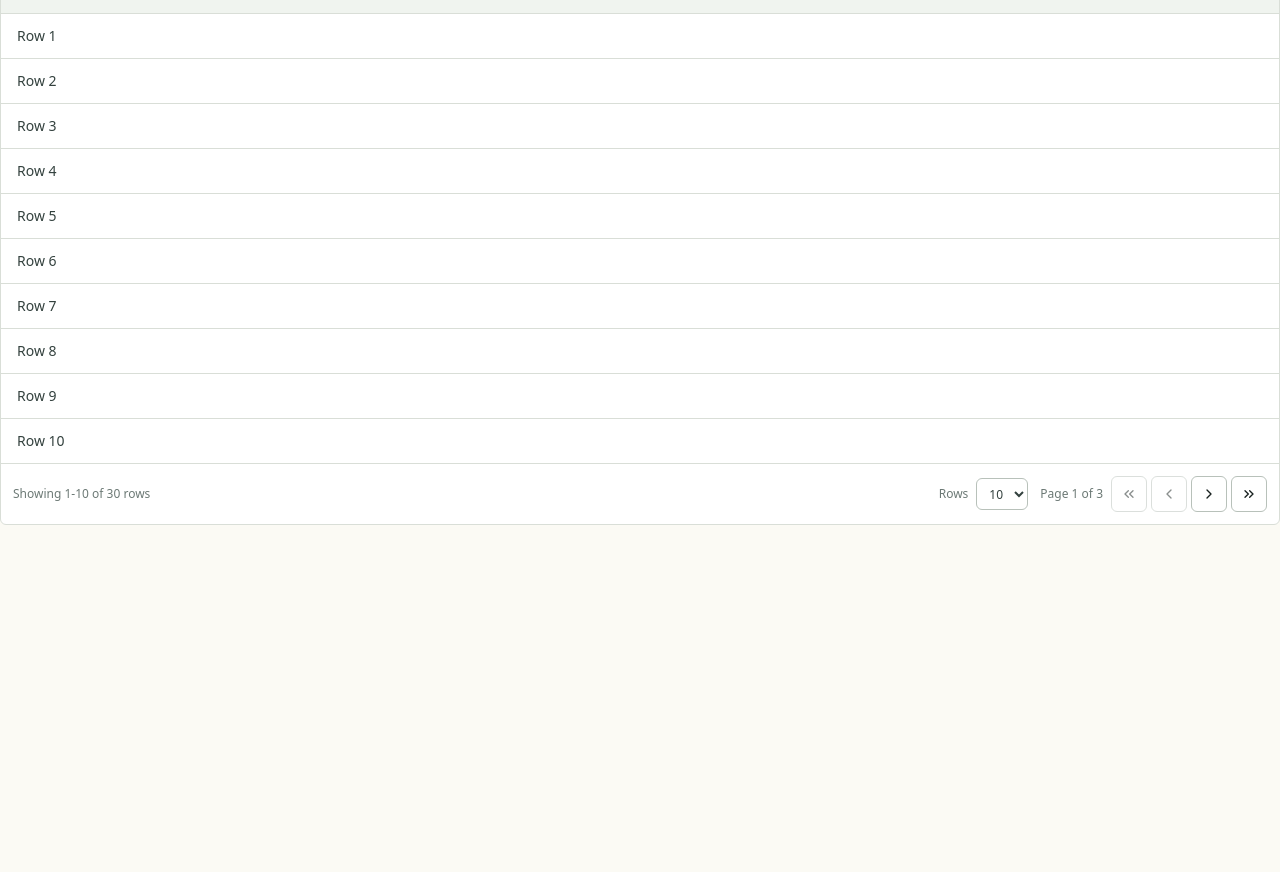
Test: DataTable › supports controlled page size changes
Expected: the text "Row 10" is shown, x1=1 y1=418 x2=1279 y2=463
Expected: the text "Showing 1-10 of 30 rows" is shown, x1=13 y1=486 x2=150 y2=502
Select "25" in the dropdown named "Rows per page" at [1002, 494], box x1=976 y1=478 x2=1028 y2=510
(page scrolled)
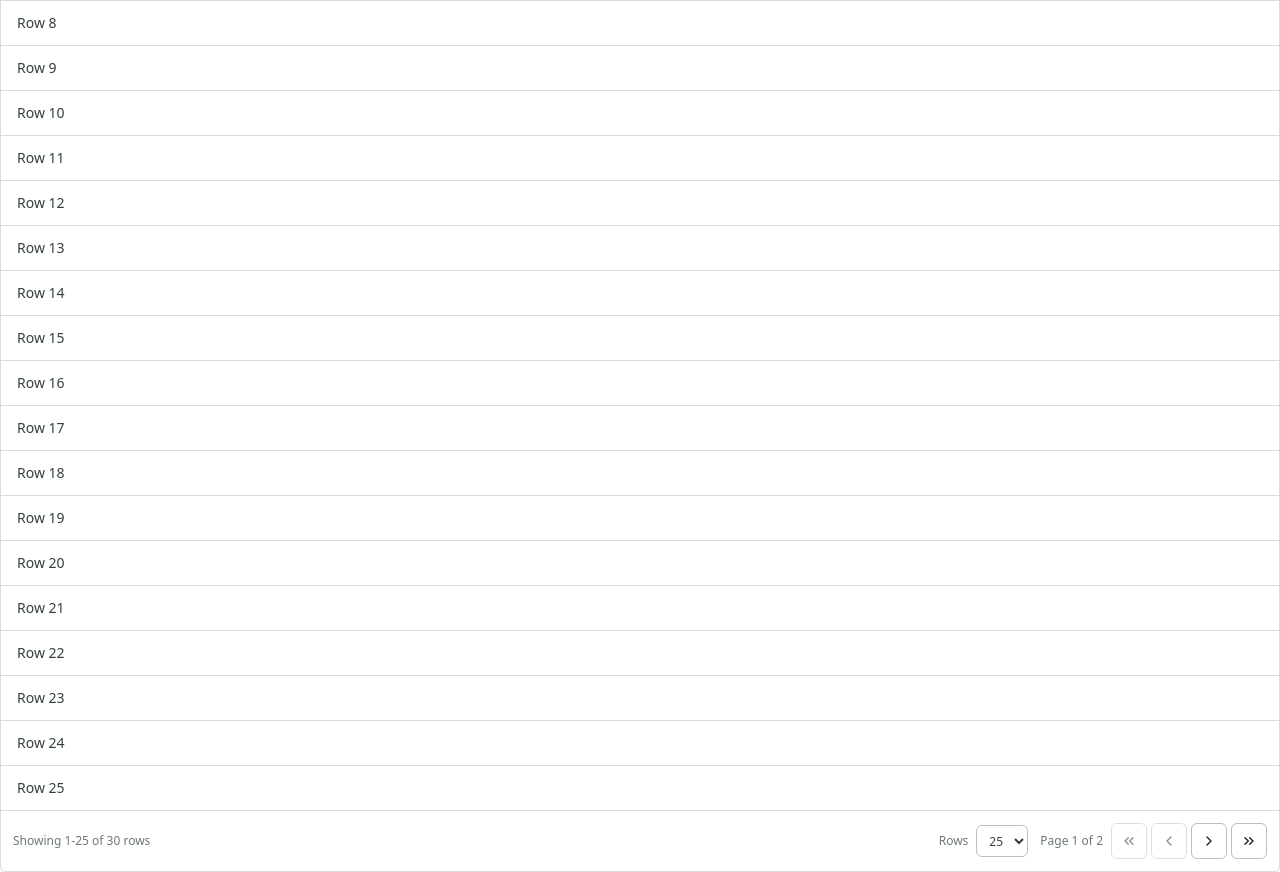
Expected: the text "Row 25" is shown, x1=1 y1=766 x2=1279 y2=810
Expected: the text "Showing 1-25 of 30 rows" is shown, x1=13 y1=833 x2=150 y2=849
